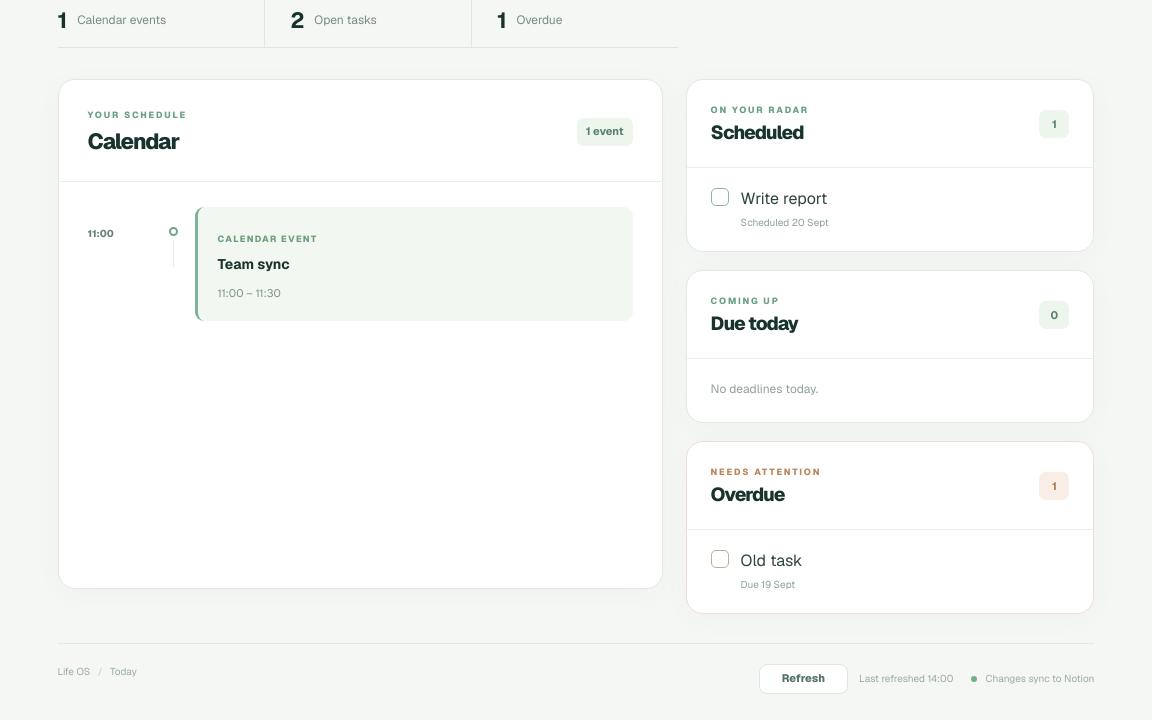
Test: Dashboard refresh › clears the refresh error after a subsequent successful refresh
(page scrolled)
Click the button "Refresh" at (803, 679), box [759, 664, 848, 694]
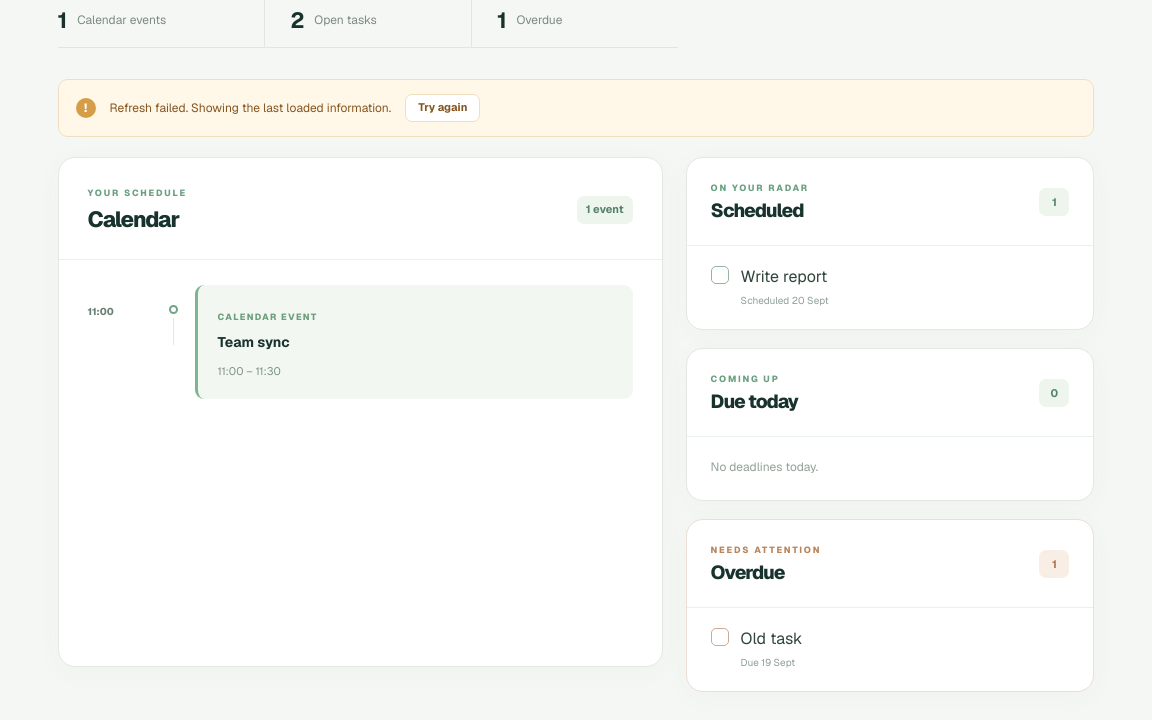
Click the button "Try again" at (443, 108), box [405, 94, 480, 122]
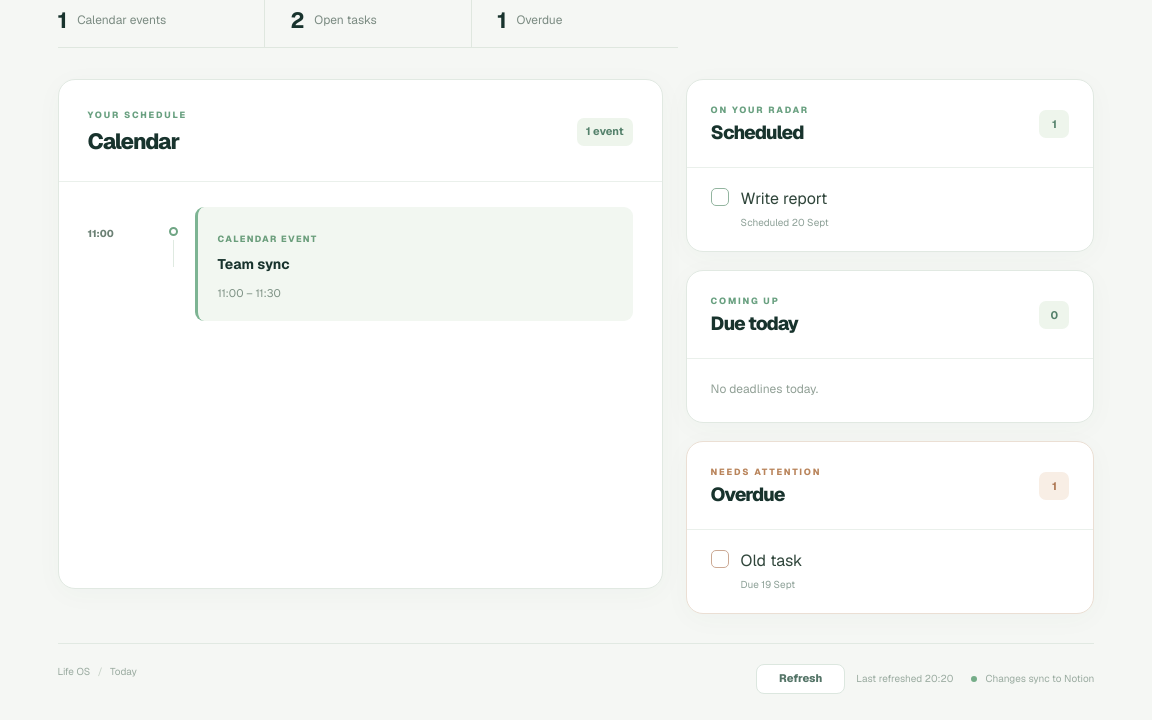
Expected: the text "Refresh failed. Showing the last loaded information." is gone
